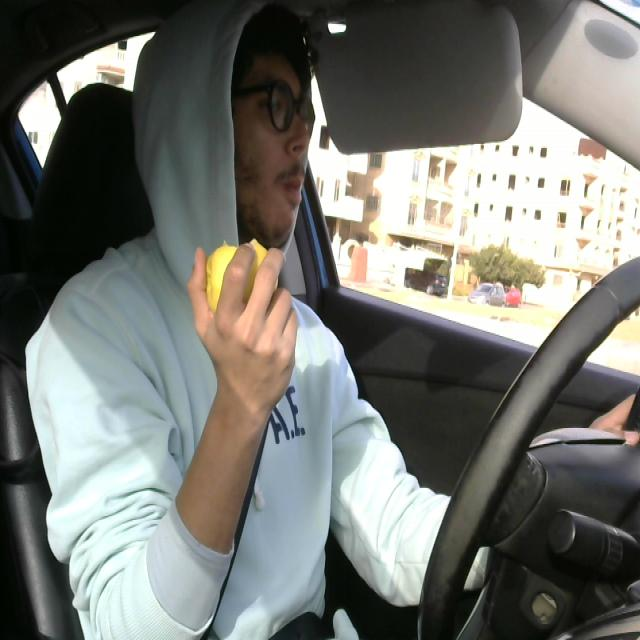eating: (196, 229, 289, 333)
